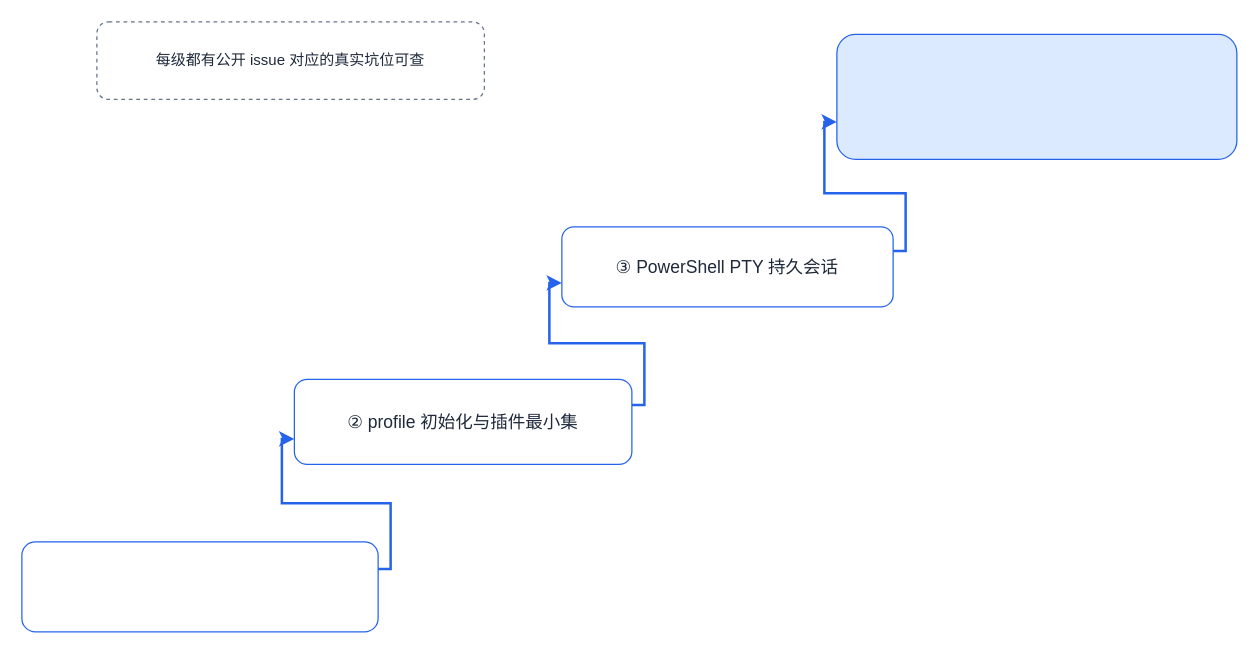
Some shapes in this 1259 by 654 pixel diagram are drawn without their labels. The box of each missing label's shape, as (x1, y1, x2, y2) in pixels:
① Node 版本关卡先过（v22.13 起不来）: (21, 541, 378, 632)
④ 跟 rc 节奏升级 （PTY / SQLite 格式变化看 changelog）: (836, 33, 1237, 159)
